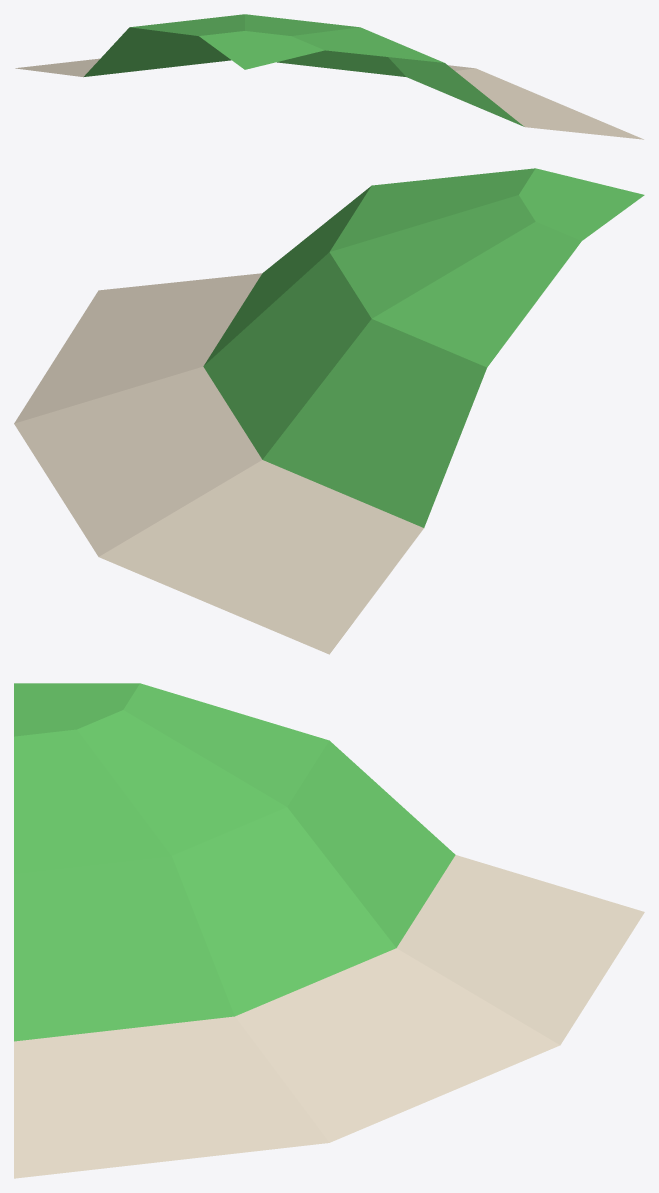
Rendered from Hilly_Terrain_Path_Corner_Inner_1x1.glb.
3 views of the same model, one above another, from view 1: azimuth 30°, elevation 25°; view 2: azimuth 150°, elevation 25°; view 3: azimuth 270°, elevation 25° (orthographic). The views are drawn at different scales.
Parts seen in each view (by area): view 1: Hilly_Terrain_Path_Corner_Inner_1x1; view 2: Hilly_Terrain_Path_Corner_Inner_1x1; view 3: Hilly_Terrain_Path_Corner_Inner_1x1.
Part boxes in pixels (x1,y1,x2,y2): Hilly_Terrain_Path_Corner_Inner_1x1: (15, 14, 643, 139); Hilly_Terrain_Path_Corner_Inner_1x1: (14, 168, 644, 654); Hilly_Terrain_Path_Corner_Inner_1x1: (14, 683, 644, 1178).
Size of the model in its own units: 0.265 by 0.106 by 0.265.
